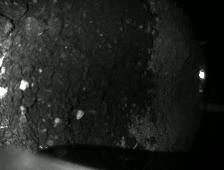corn: (17, 76, 33, 93), (74, 107, 86, 121)
